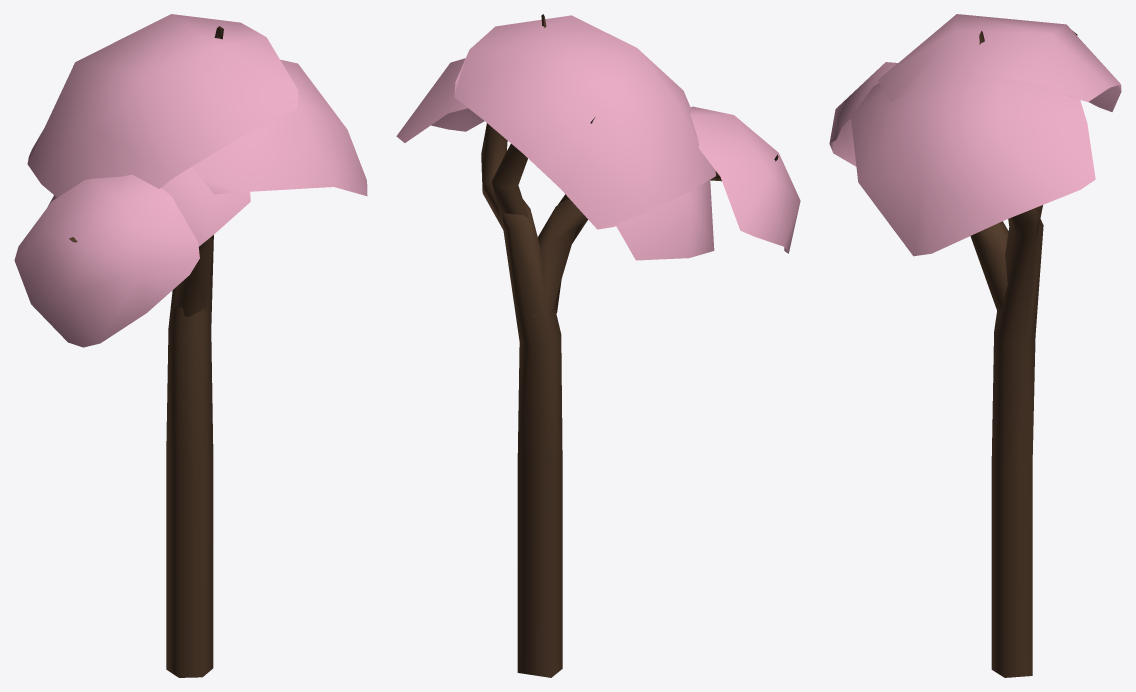
Rendered from SakuraMedia.fbx.
The picture shows the model from 3 angles, left to right: view 1: azimuth 30°, elevation 25°; view 2: azimuth 150°, elevation 25°; view 3: azimuth 270°, elevation 25°; orthographic projection.
Visible parts, largest first — view 1: SakuraMedia_LOD0; view 2: SakuraMedia_LOD0; view 3: SakuraMedia_LOD0.
Boxes of the visible parts, bbox=[...] form: SakuraMedia_LOD0: bbox=[14, 14, 367, 677]; SakuraMedia_LOD0: bbox=[396, 14, 800, 677]; SakuraMedia_LOD0: bbox=[829, 14, 1121, 677].
Size of what is drawn, in the model's own units: 1085 by 1975 by 811.
